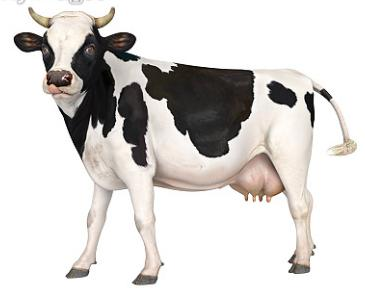cow: (14, 24, 314, 284)
